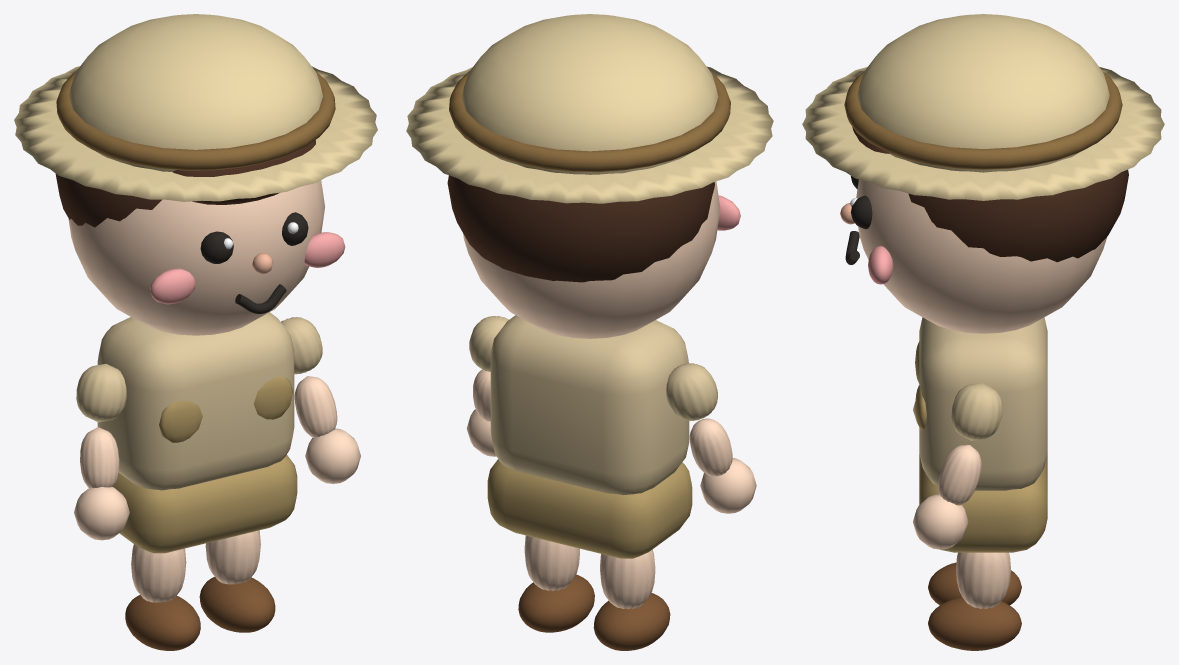
File: explorer.glb
3 views of the same model, side by side, from view 1: azimuth 30°, elevation 25°; view 2: azimuth 150°, elevation 25°; view 3: azimuth 270°, elevation 25° (orthographic).
Visible parts, largest first — view 1: hatdome, torso, skull, brim, shorts, hatband, shoe1, shoe-1, hair, legmesh-1, sleeve-1, hand-1 (+13 smaller); view 2: torso, hatdome, hair, brim, shorts, skull, hatband, shoe1, shoe-1, legmesh-1, sleeve-1, legmesh1 (+6 smaller); view 3: hatdome, skull, torso, brim, hair, hatband, shorts, shoe1, legmesh1, sleeve1, hand1, armmesh1 (+3 smaller).
Part boxes in pixels (x1=…): hatdome: x1=69, y1=14, x2=322, y2=171; torso: x1=97, y1=312, x2=294, y2=490; skull: x1=68, y1=180, x2=324, y2=335; brim: x1=14, y1=66, x2=377, y2=201; shorts: x1=113, y1=455, x2=297, y2=553; hatband: x1=56, y1=70, x2=335, y2=170; shoe1: x1=199, y1=576, x2=275, y2=632; shoe-1: x1=125, y1=595, x2=200, y2=650; hair: x1=55, y1=174, x2=161, y2=227; legmesh-1: x1=131, y1=544, x2=186, y2=602; sleeve-1: x1=76, y1=363, x2=126, y2=422; hand-1: x1=74, y1=487, x2=129, y2=540; torso: x1=490, y1=315, x2=689, y2=495; hatdome: x1=461, y1=14, x2=718, y2=174; hair: x1=447, y1=175, x2=714, y2=282; brim: x1=406, y1=66, x2=773, y2=203; shorts: x1=487, y1=459, x2=692, y2=558; skull: x1=463, y1=181, x2=720, y2=338; hatband: x1=449, y1=71, x2=730, y2=172; shoe1: x1=518, y1=574, x2=594, y2=632; shoe-1: x1=593, y1=593, x2=670, y2=650; legmesh-1: x1=600, y1=549, x2=655, y2=609; sleeve-1: x1=666, y1=363, x2=717, y2=420; legmesh1: x1=524, y1=535, x2=579, y2=590; hatdome: x1=857, y1=14, x2=1109, y2=172; skull: x1=856, y1=179, x2=1106, y2=333; torso: x1=919, y1=317, x2=1047, y2=490; brim: x1=802, y1=67, x2=1164, y2=200; hair: x1=908, y1=169, x2=1128, y2=262; hatband: x1=844, y1=71, x2=1122, y2=169; shorts: x1=919, y1=454, x2=1047, y2=552; shoe1: x1=928, y1=597, x2=1021, y2=650; legmesh1: x1=956, y1=552, x2=1010, y2=608; sleeve1: x1=951, y1=383, x2=1002, y2=440; hand1: x1=913, y1=494, x2=968, y2=549; armmesh1: x1=938, y1=445, x2=981, y2=505.
Size of the model in its own units: 0.8469 by 1.54 by 0.8469.
